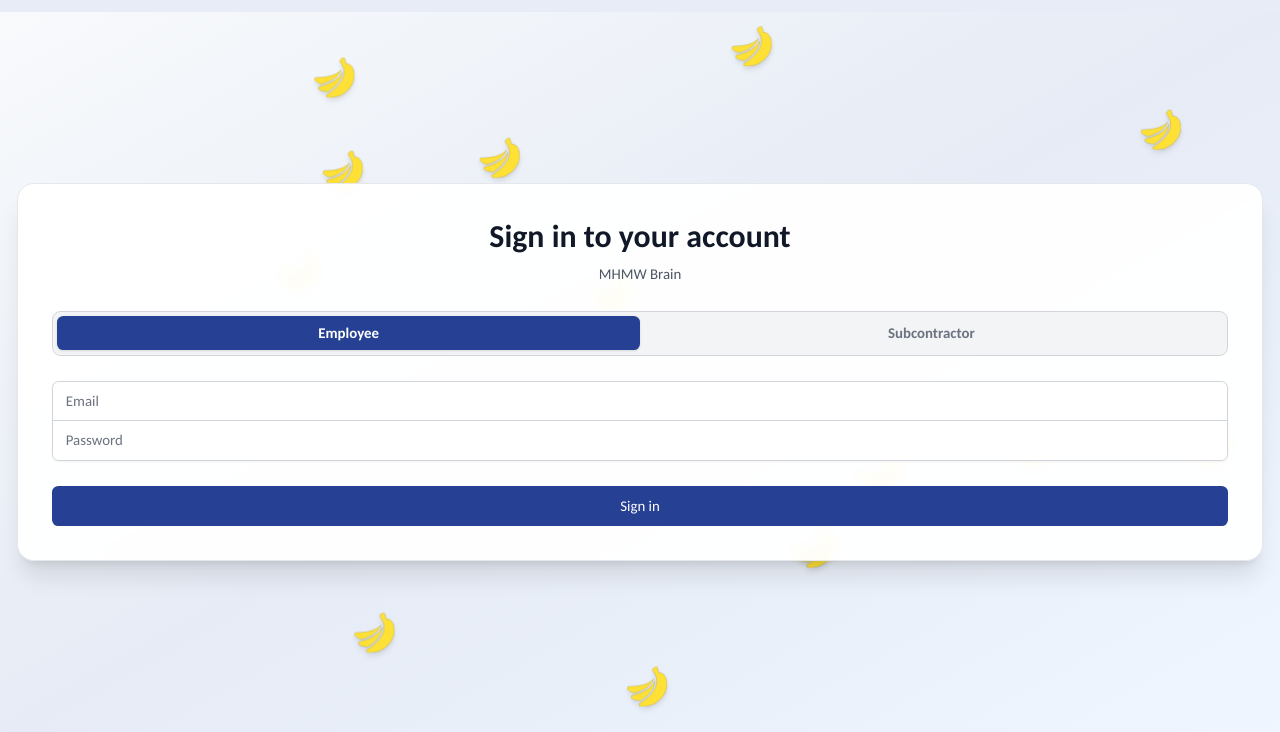
Login page › shows error when account does not exist
Type "ghost@example.com" into the field with placeholder "Email".
click(640, 401); type("ghost@example.com")  # box 52,381 -> 1228,421
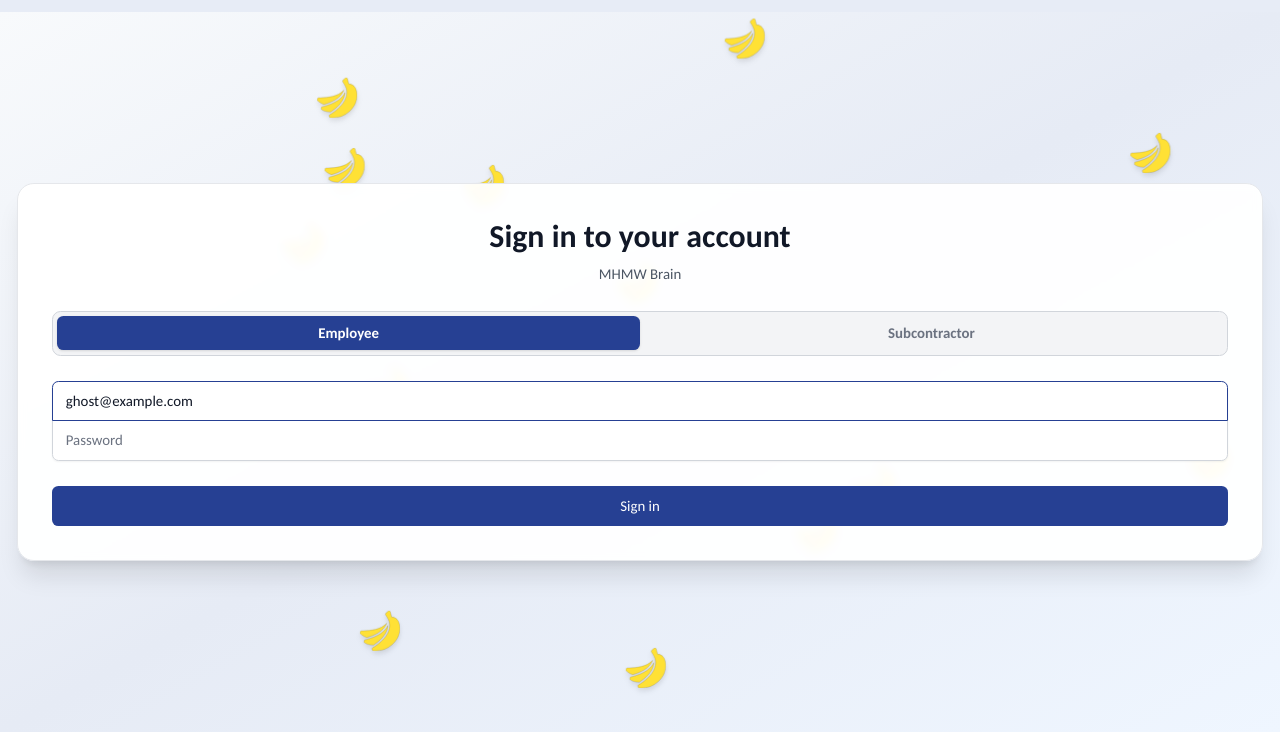
Type "whatever" into the password field with placeholder "Password".
click(640, 441); type("whatever")  # box 52,420 -> 1228,461
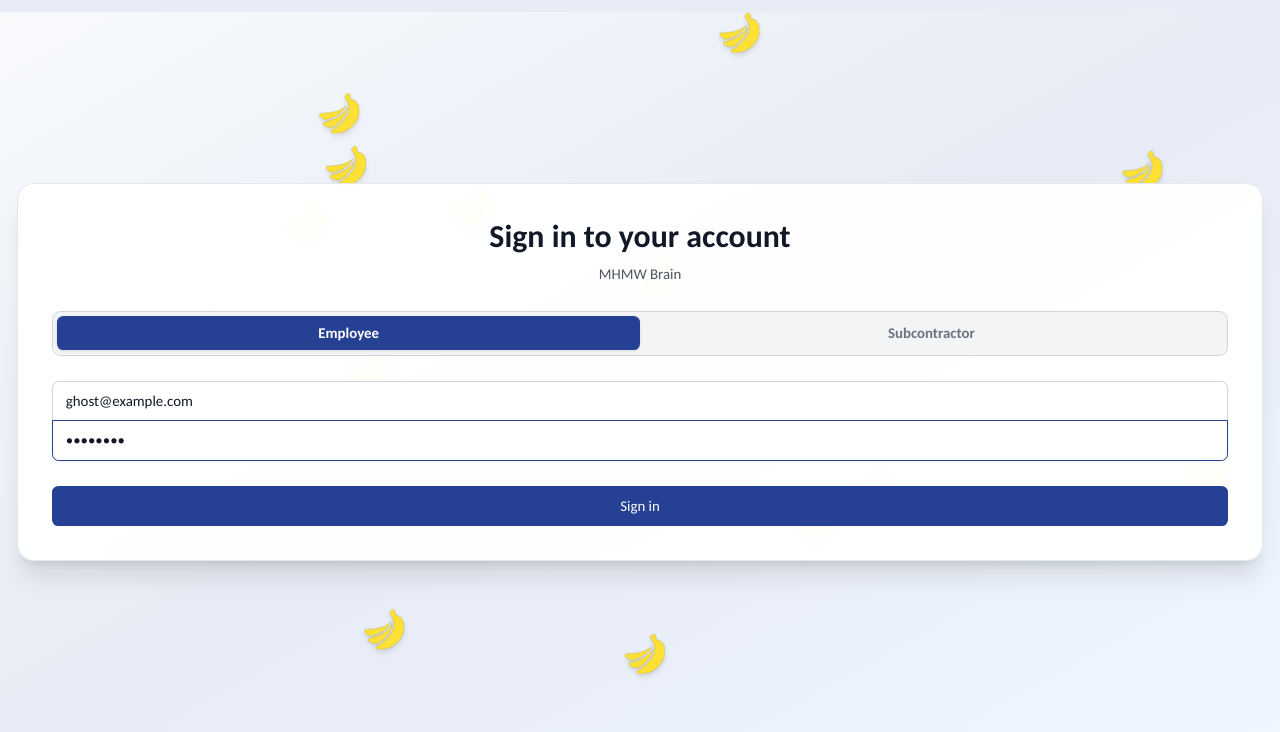
Click the button "Sign in".
click(640, 506)  # box 52,486 -> 1228,526
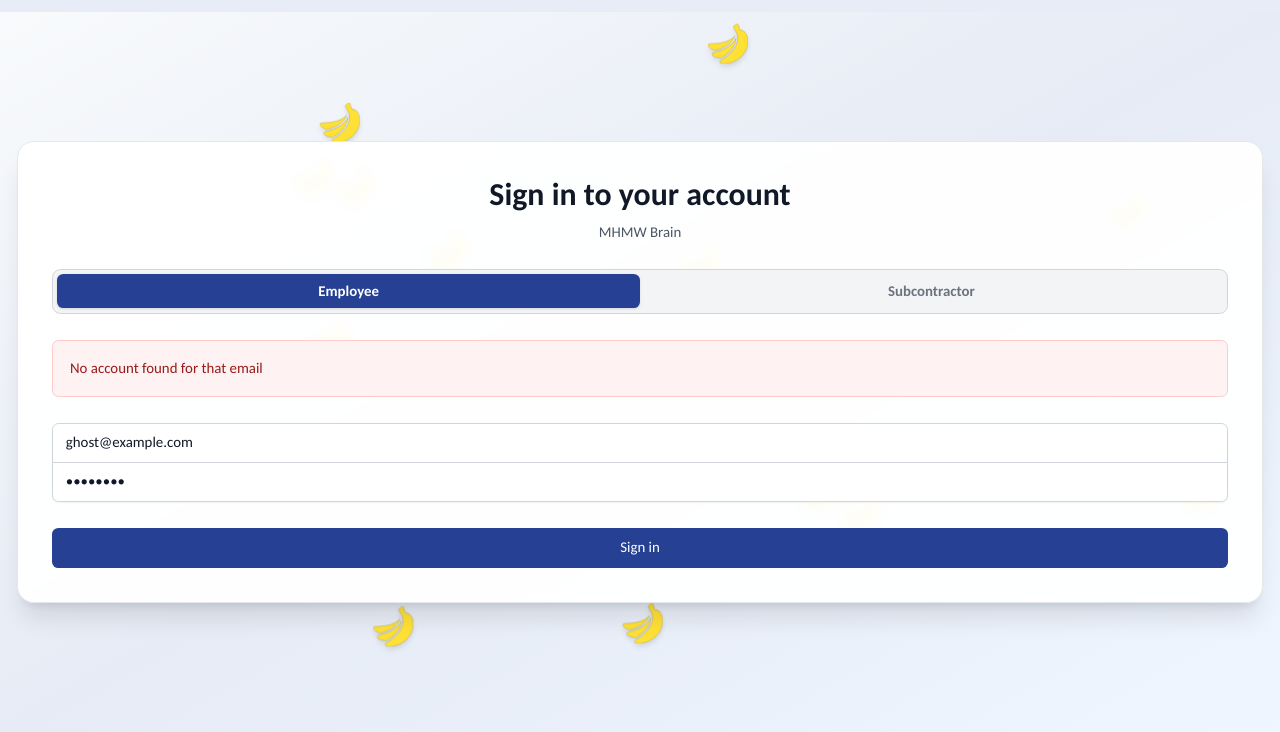
Expected: the text "No account found for that email" is shown, 70,359 -> 263,377
